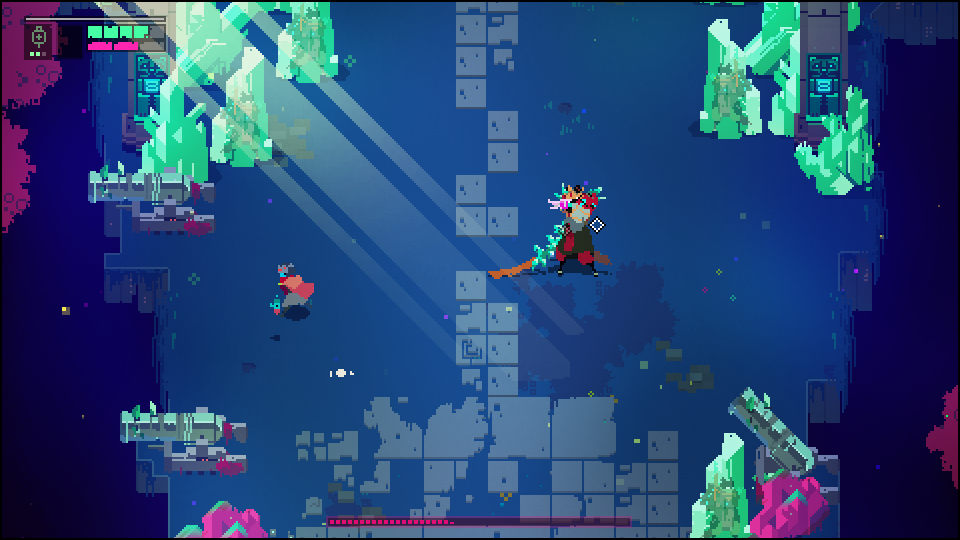hanged_man: (516, 177, 617, 281)
player: (272, 260, 317, 317)
